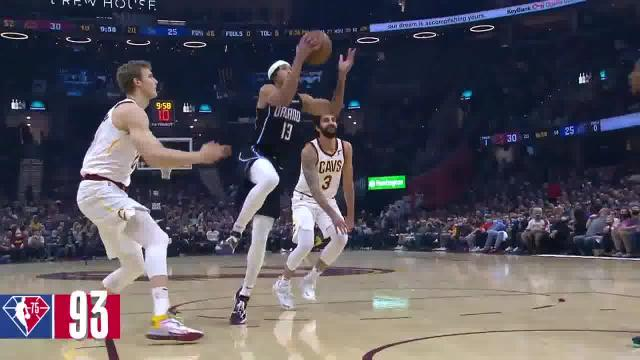ball-handler: (227, 28, 355, 335)
player: (79, 58, 206, 345), (289, 108, 356, 310)
